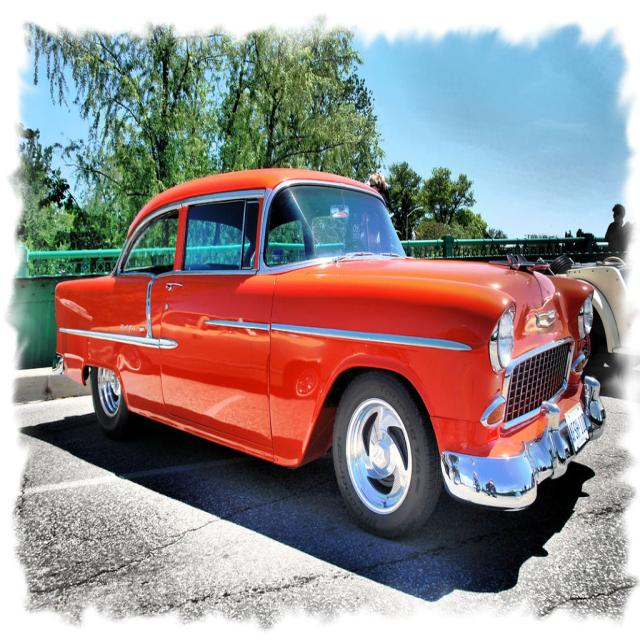car: (49, 163, 605, 544)
